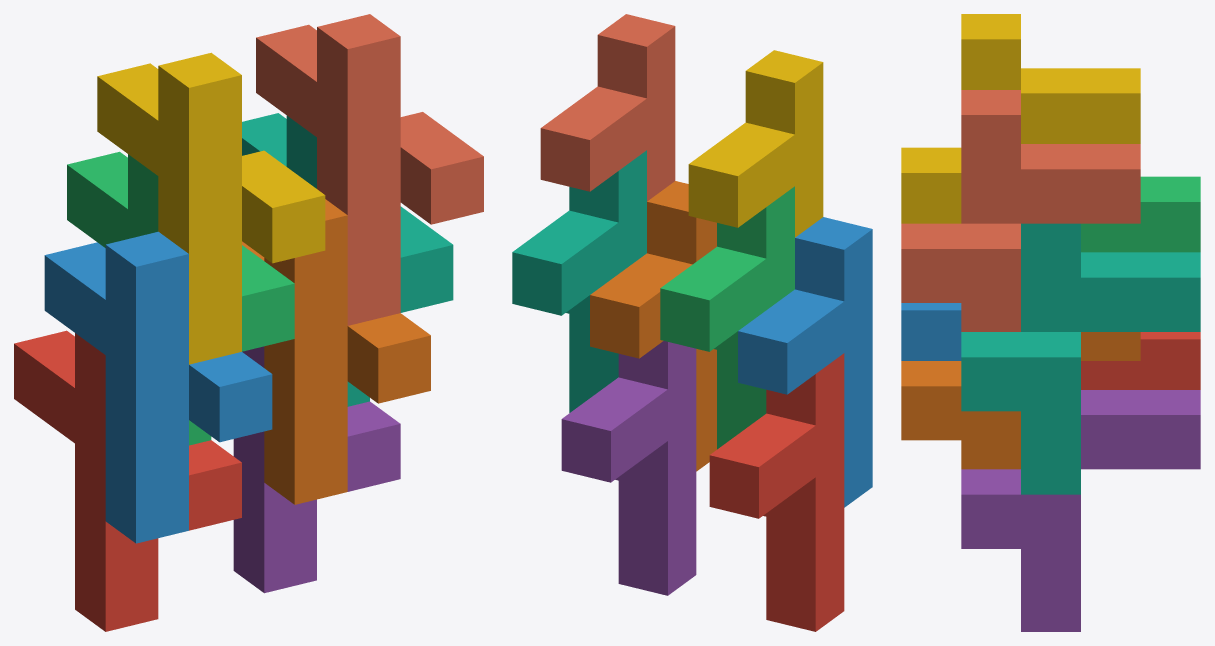
Rendered from tiling.obj.
The picture shows the model from 3 angles, left to right: view 1: azimuth 30°, elevation 25°; view 2: azimuth 150°, elevation 25°; view 3: azimuth 270°, elevation 25°; orthographic projection. The views are drawn at different scales.
Visible parts, largest first — view 1: copy_1_domain_2, copy_1_domain_8, copy_1_domain_4, copy_1_domain_6, copy_1_domain_1, copy_1_domain_5, copy_1_domain_3, copy_1_domain_7; view 2: copy_1_domain_1, copy_1_domain_5, copy_1_domain_2, copy_1_domain_8, copy_1_domain_4, copy_1_domain_3, copy_1_domain_7, copy_1_domain_6; view 3: copy_1_domain_7, copy_1_domain_8, copy_1_domain_5, copy_1_domain_4, copy_1_domain_6, copy_1_domain_3, copy_1_domain_1, copy_1_domain_2.
Part boxes in pixels (x1,y1,x2,y2): copy_1_domain_2: (44, 231, 272, 543); copy_1_domain_8: (256, 14, 483, 325); copy_1_domain_4: (97, 52, 325, 364); copy_1_domain_6: (242, 199, 430, 504); copy_1_domain_1: (14, 330, 241, 631); copy_1_domain_5: (233, 346, 400, 593); copy_1_domain_3: (67, 151, 294, 445); copy_1_domain_7: (242, 113, 453, 406); copy_1_domain_1: (709, 353, 844, 631); copy_1_domain_5: (561, 341, 696, 595); copy_1_domain_2: (738, 217, 872, 507); copy_1_domain_8: (540, 14, 675, 201); copy_1_domain_4: (688, 50, 823, 237); copy_1_domain_3: (660, 186, 794, 449); copy_1_domain_7: (512, 150, 646, 412); copy_1_domain_6: (590, 181, 716, 471); copy_1_domain_7: (961, 223, 1200, 494); copy_1_domain_8: (901, 90, 1140, 331); copy_1_domain_5: (961, 390, 1200, 631); copy_1_domain_4: (901, 14, 1140, 223); copy_1_domain_6: (901, 332, 1140, 469); copy_1_domain_3: (1081, 176, 1200, 252); copy_1_domain_1: (1081, 332, 1200, 389); copy_1_domain_2: (901, 303, 961, 360).
Bounding box in the file's own units: 6 × 10 × 5.
